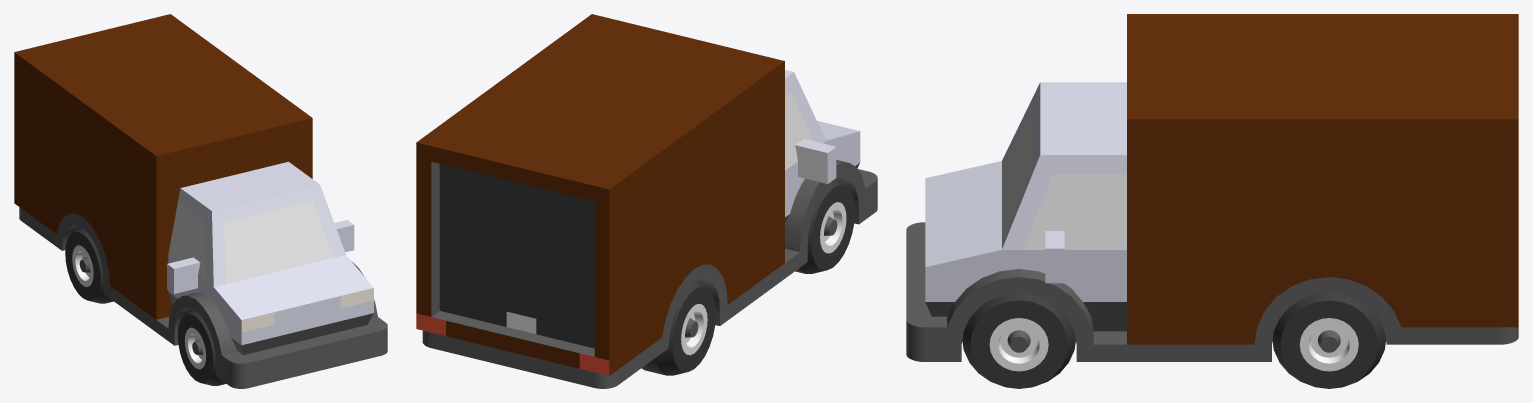
Rendered from delivery_brown.fbx.
3 views of the same model, side by side, from view 1: azimuth 30°, elevation 25°; view 2: azimuth 150°, elevation 25°; view 3: azimuth 270°, elevation 25° (orthographic). The views are drawn at different scales.
Visible parts, largest first — view 1: delivery; view 2: delivery; view 3: delivery.
Boxes of the visible parts, x1,y1,x2,y2 form: delivery: (14,14,387,388); delivery: (416,14,877,388); delivery: (906,14,1518,388).
Bounding box in the file's own units: 11.25 × 12 × 24.
